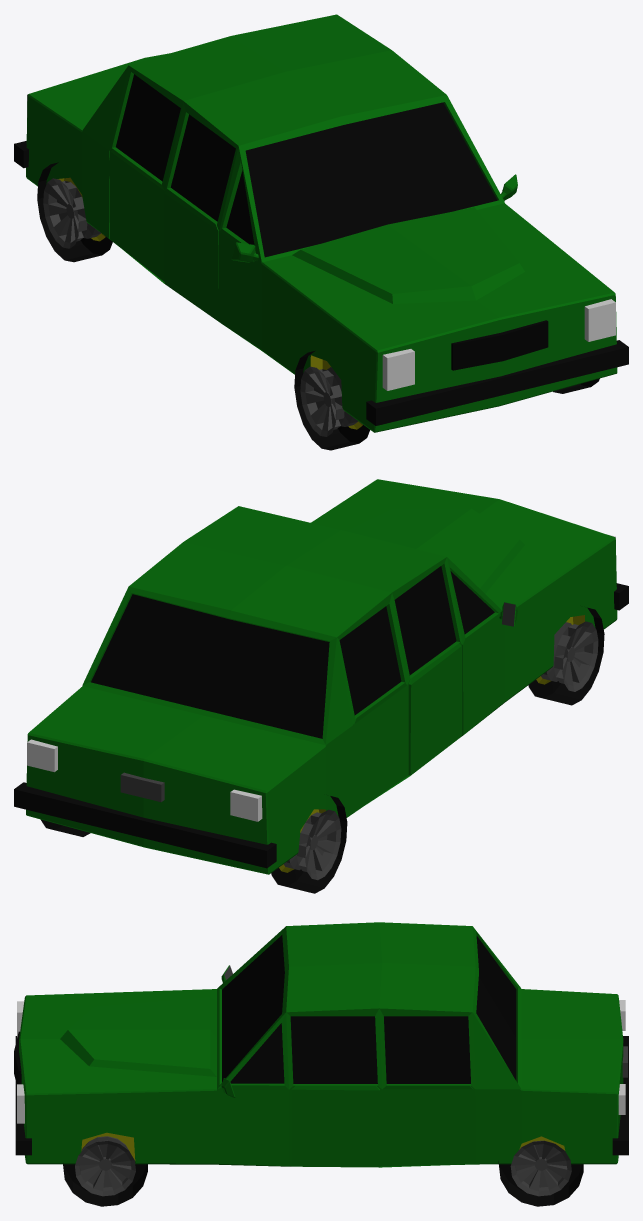
Rendered from car_2_green.obj.
3 renders of one model, top to bottom at view 1: azimuth 30°, elevation 25°; view 2: azimuth 150°, elevation 25°; view 3: azimuth 270°, elevation 25°, orthographic. The views are drawn at different scales.
Parts seen in each view (by area): view 1: Cube.001; view 2: Cube.001; view 3: Cube.001.
Part boxes in pixels (<box>): Cube.001: <box>14,14,628,450</box>; Cube.001: <box>14,479,628,893</box>; Cube.001: <box>14,922,628,1206</box>.
Bounding box in the file's own units: 1.51 × 1.14 × 3.36.
